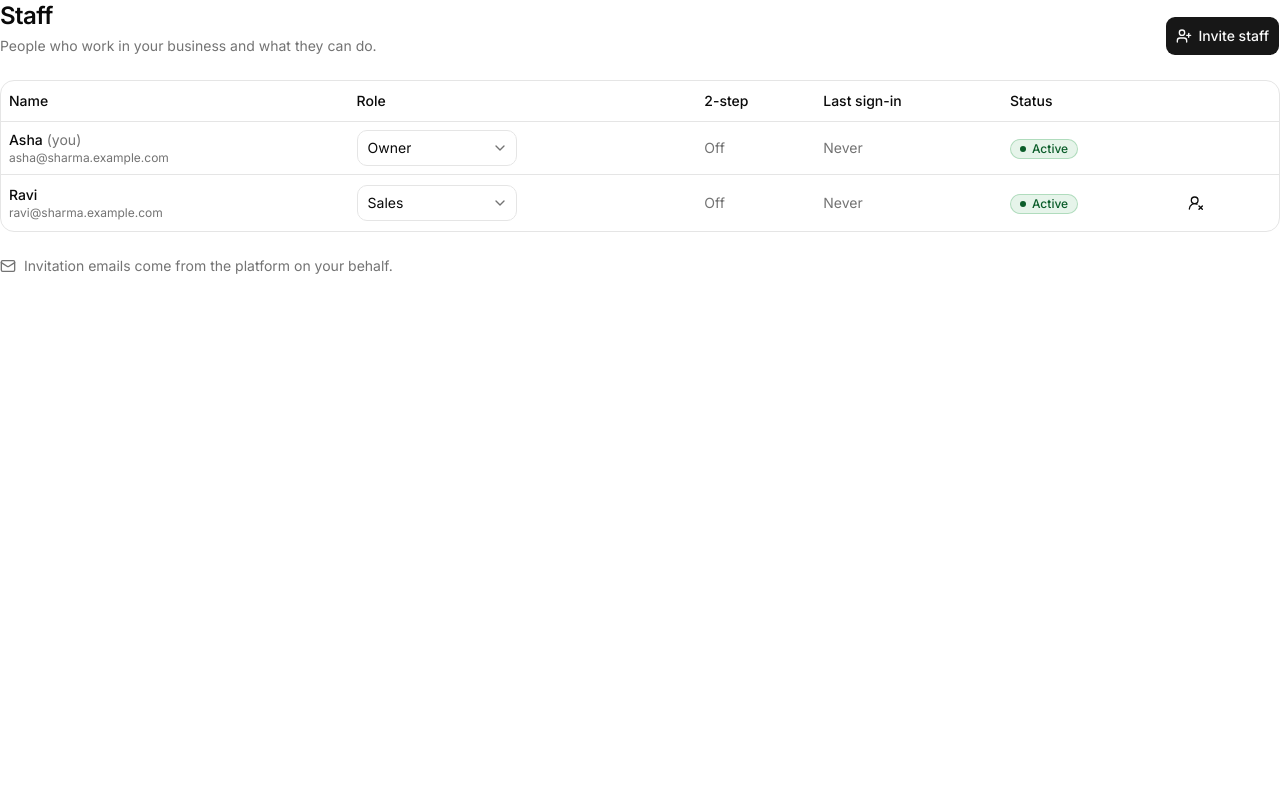
StaffPage › invites with a role and shows the server's field error inline
Expected: the text "Ravi" is shown, [9,186,37,202]
Click the button "Invite staff".
click(1223, 36)  # box [1165,16,1279,56]
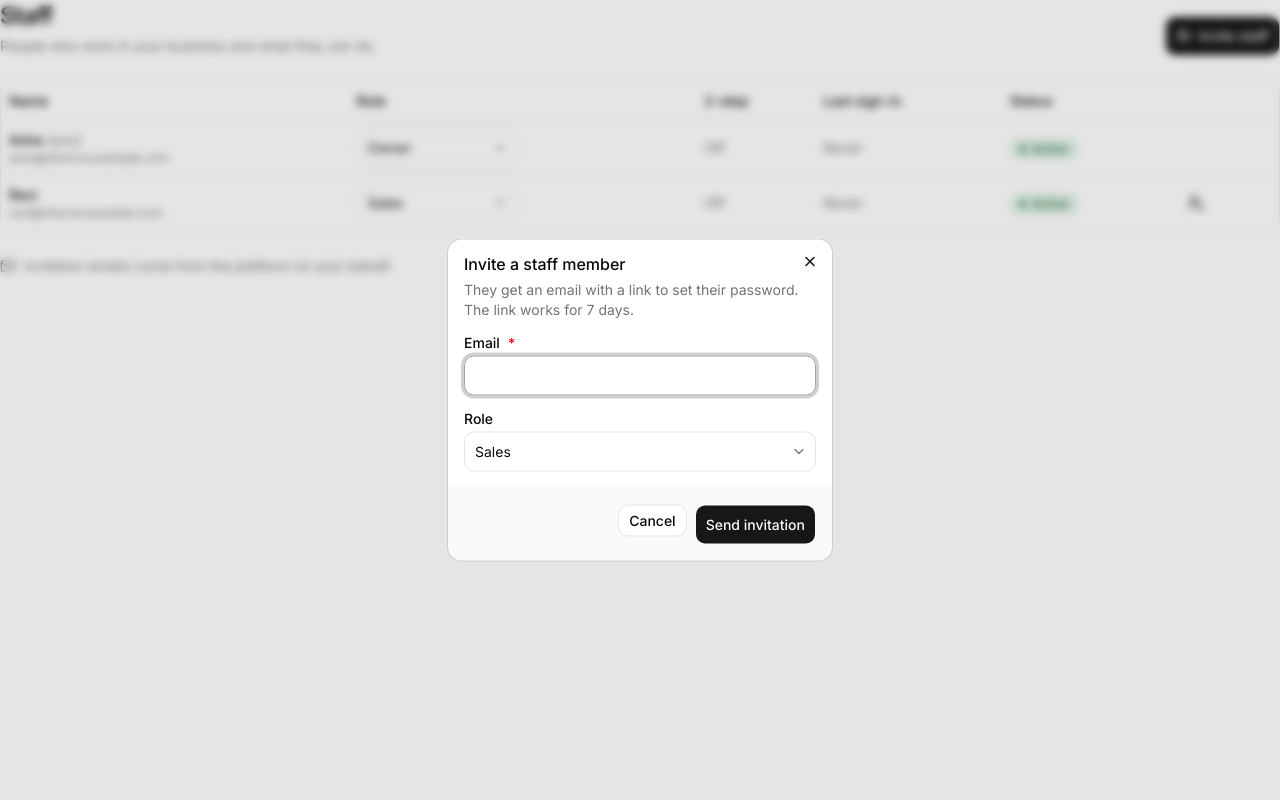
Type "new@sharma.example.com" into the field labelled "Email *".
click(640, 376); type("new@sharma.example.com")  # box [464,356,816,396]
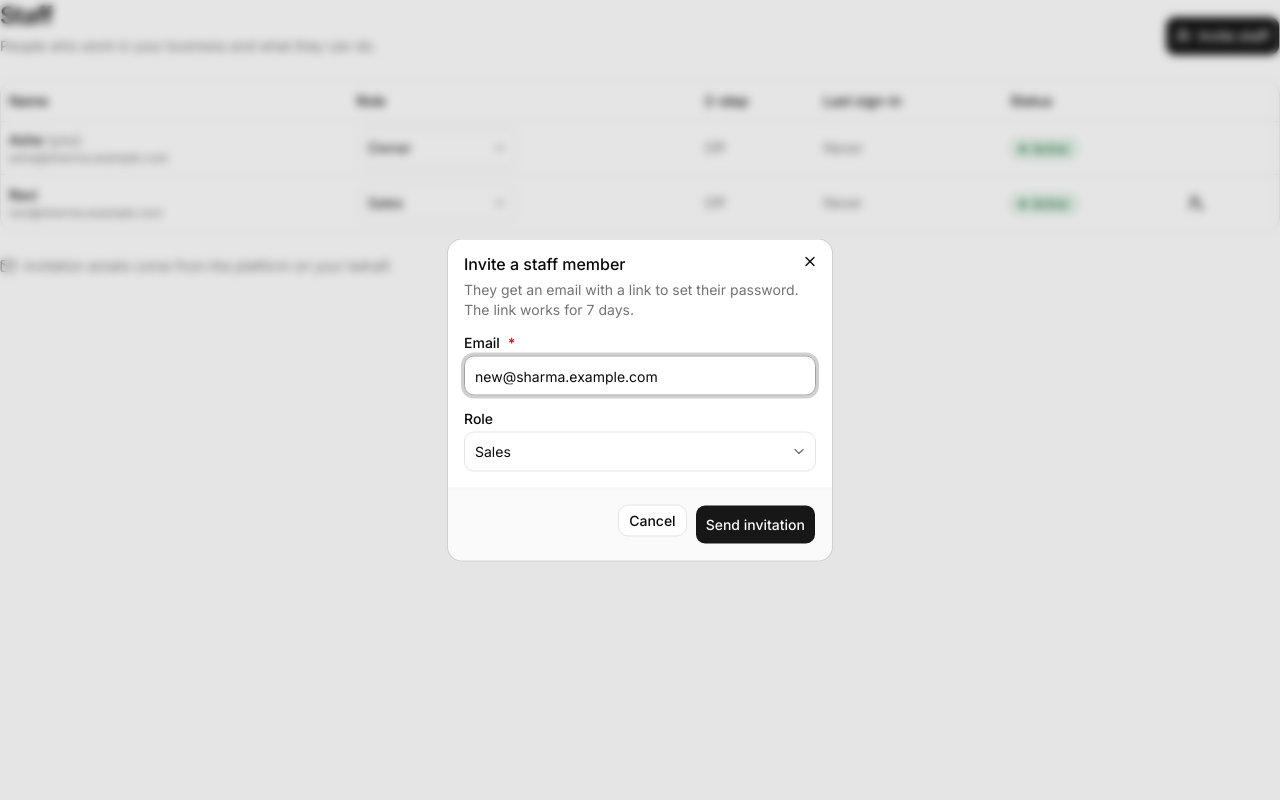
Click the button "Send invitation".
click(755, 524)  # box [695,504,816,544]
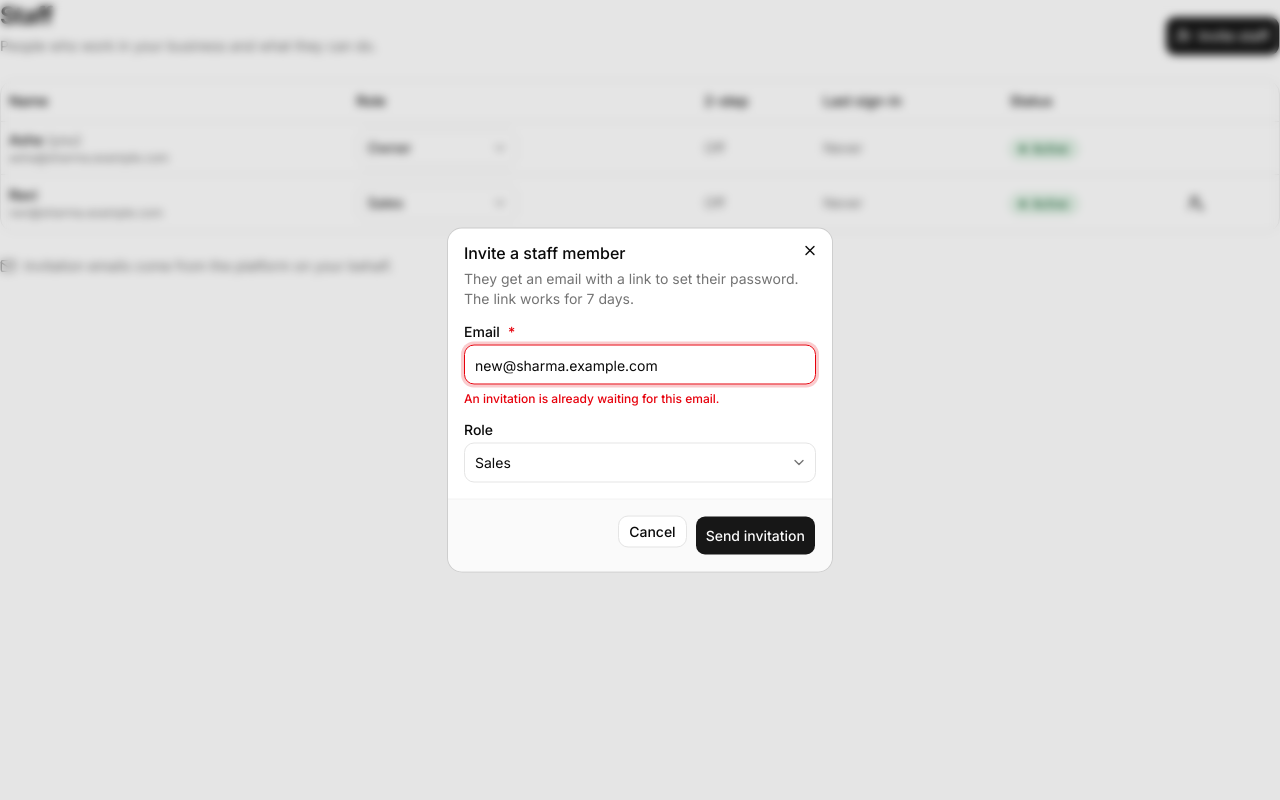
Result: the text "An invitation is already waiting for this email." is shown at [464,390,719,406]
